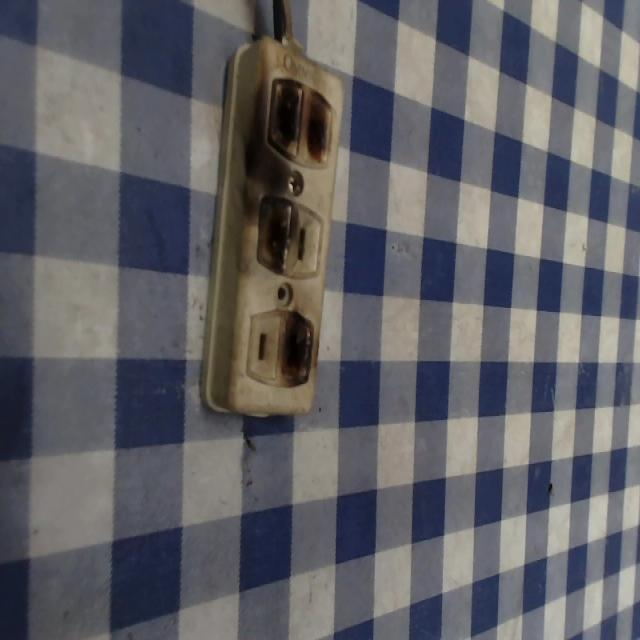-: (265, 71, 335, 168), (252, 190, 295, 274), (279, 304, 318, 392)
